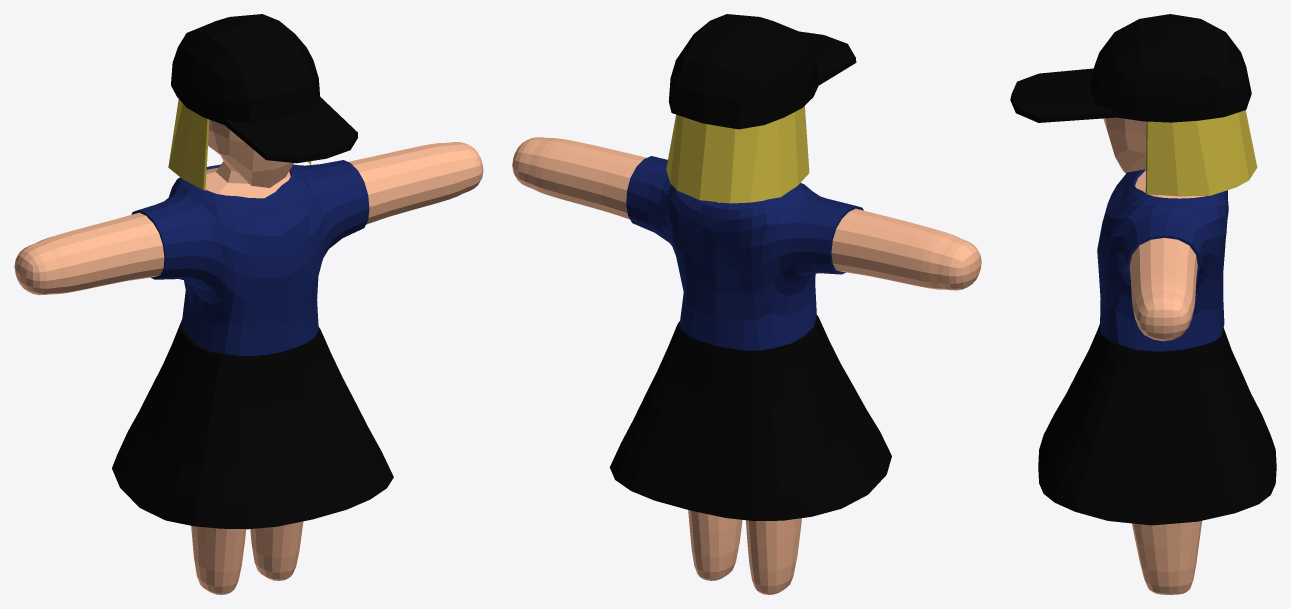
File: Mod11.glb
The picture shows the model from 3 angles, left to right: view 1: azimuth 30°, elevation 25°; view 2: azimuth 150°, elevation 25°; view 3: azimuth 270°, elevation 25°; orthographic projection.
Visible parts, largest first — view 1: Modelo 2b; view 2: Modelo 2b; view 3: Modelo 2b.
Boxes of the visible parts, left/top/right/bottom form: Modelo 2b: left=14, top=14, right=483, bottom=594; Modelo 2b: left=512, top=14, right=981, bottom=594; Modelo 2b: left=1010, top=14, right=1276, bottom=594.
Bounding box in the file's own units: 7.96 × 9.24 × 4.05.
